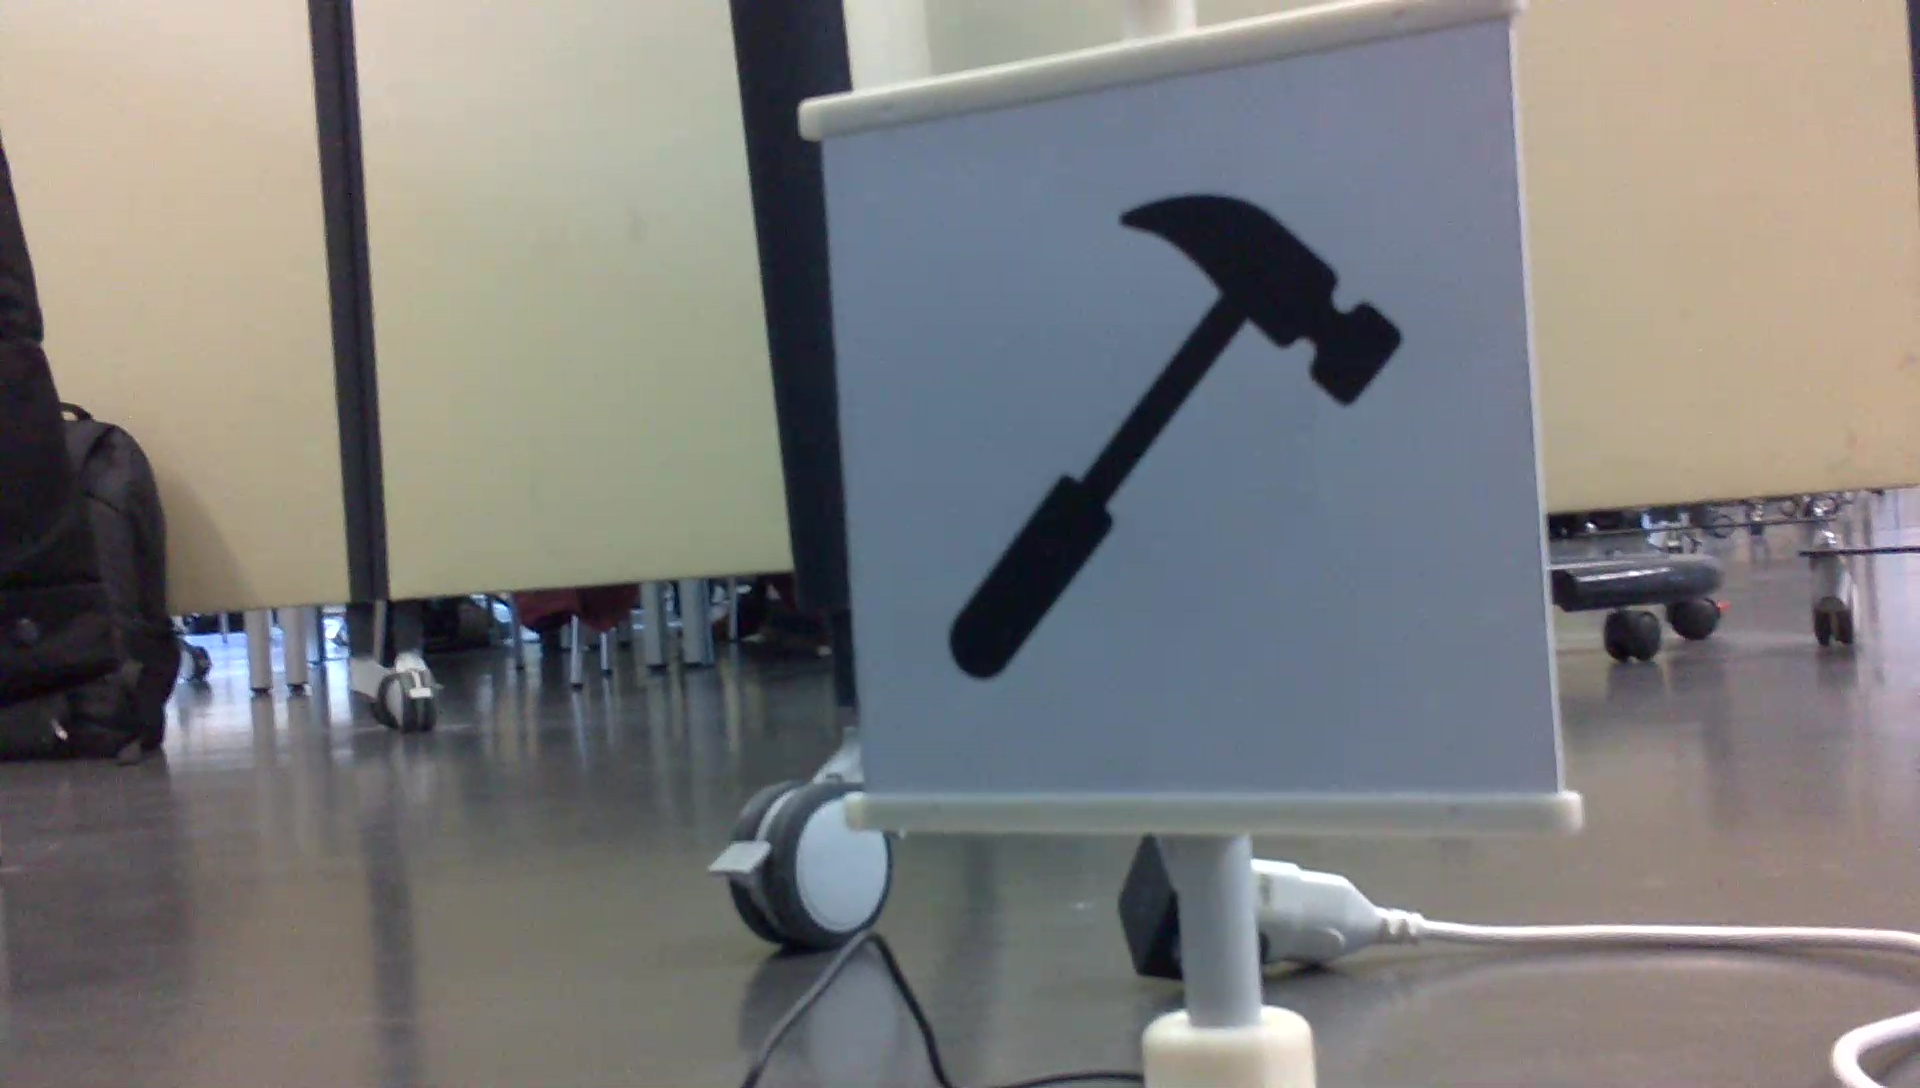hammer: (930, 186, 1418, 698)
